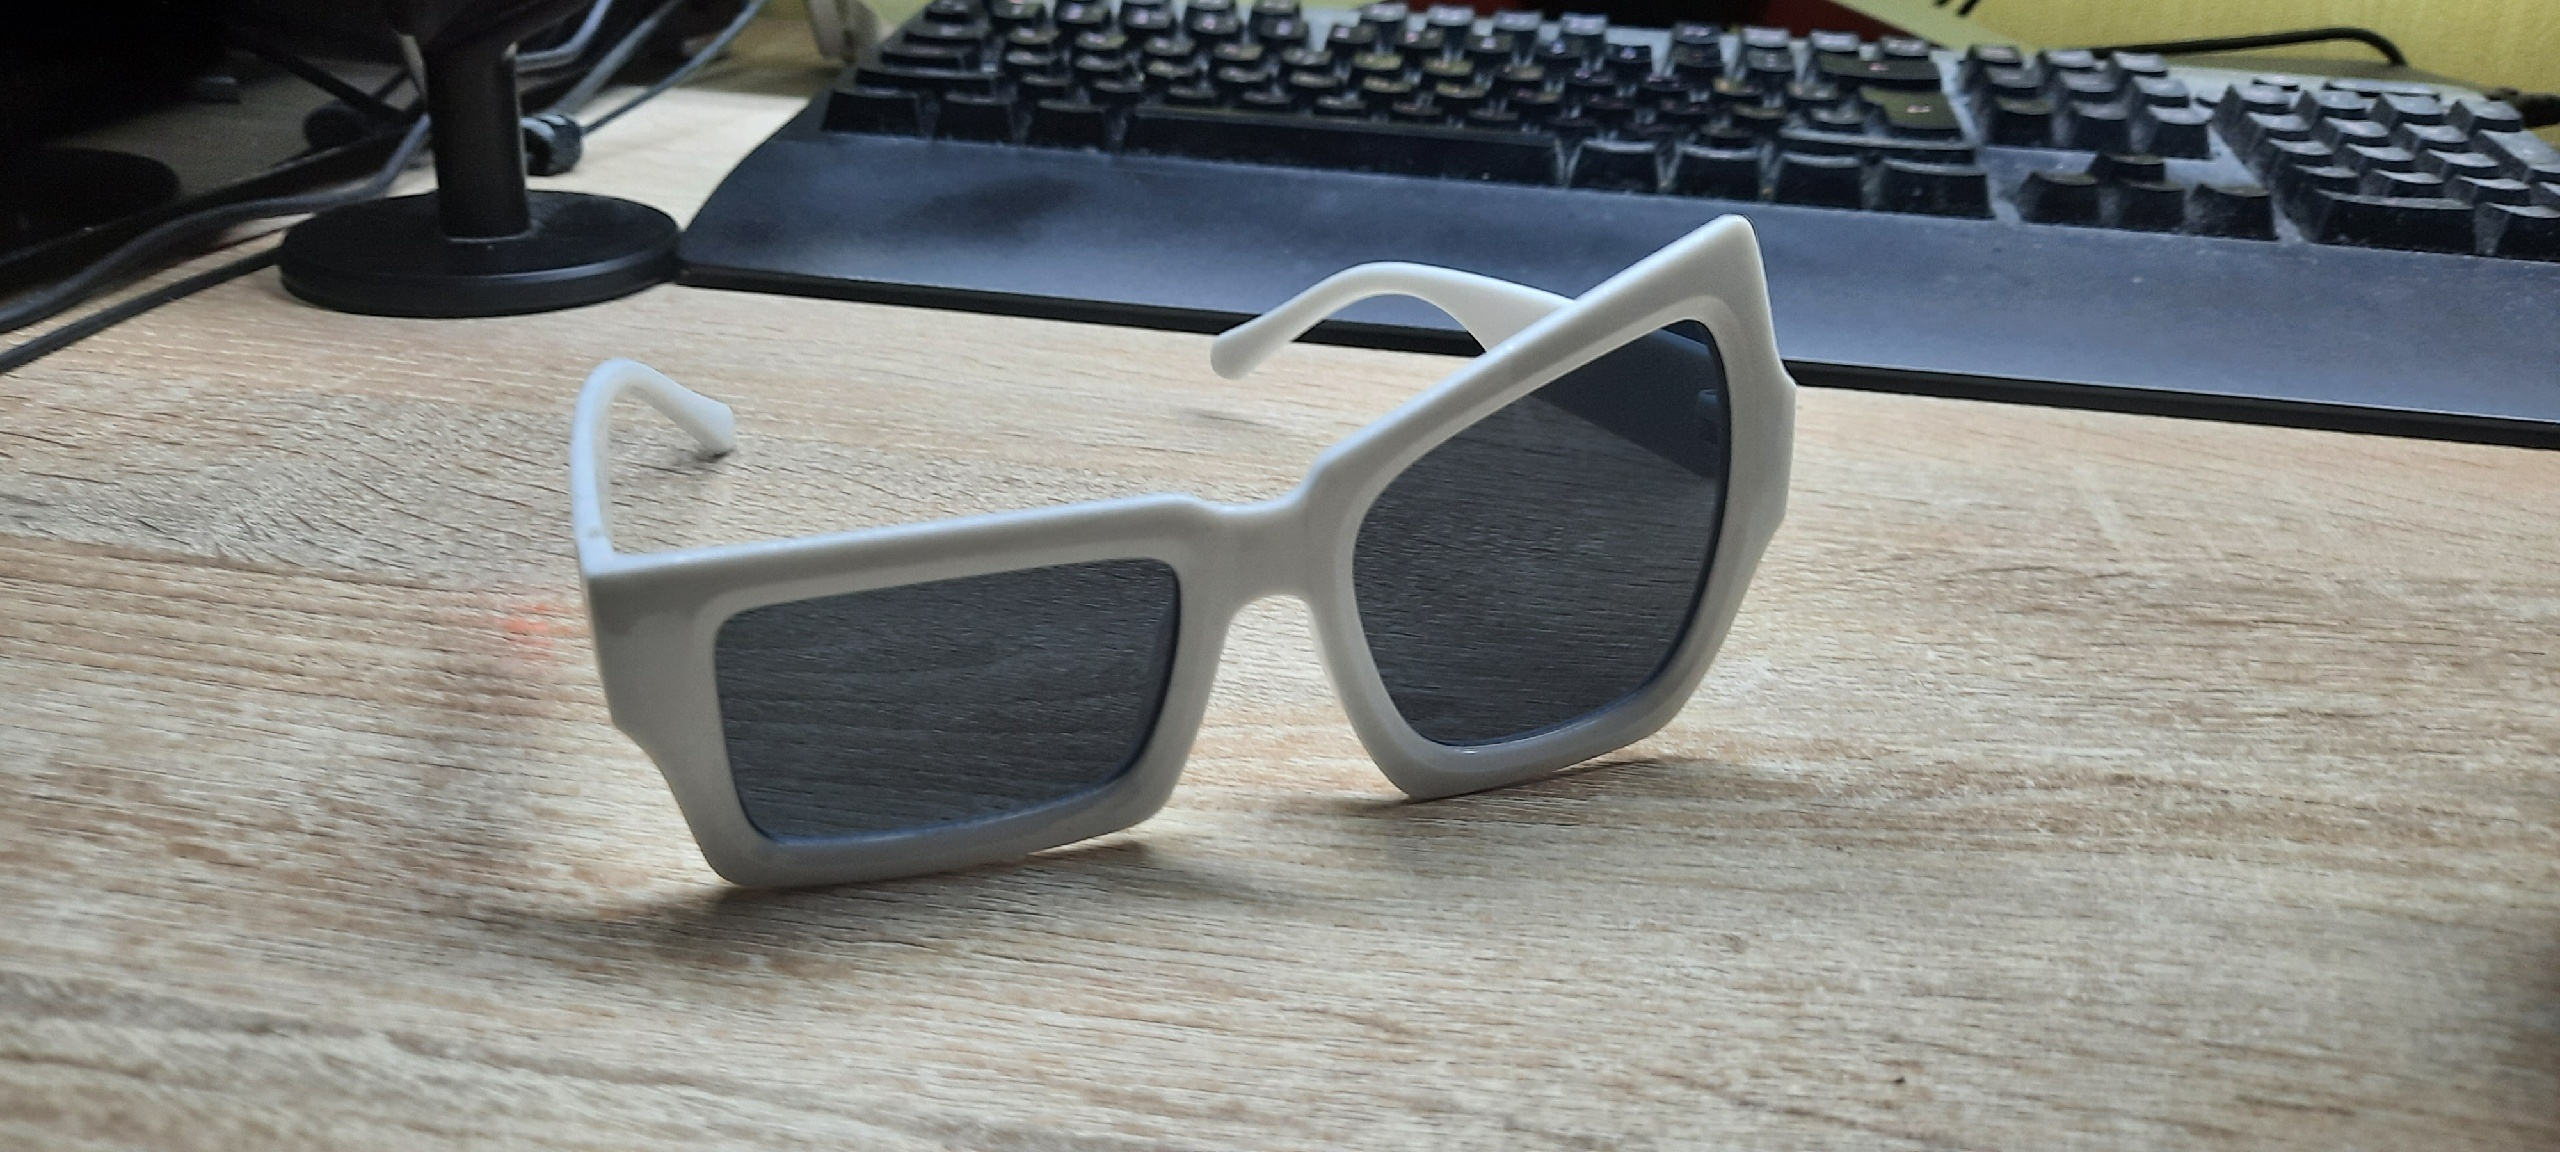glasses: (571, 219, 1794, 884)
